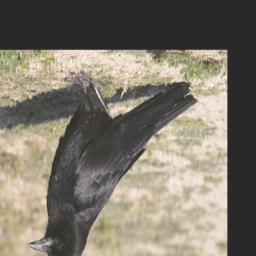Crow: (26, 71, 198, 256)
